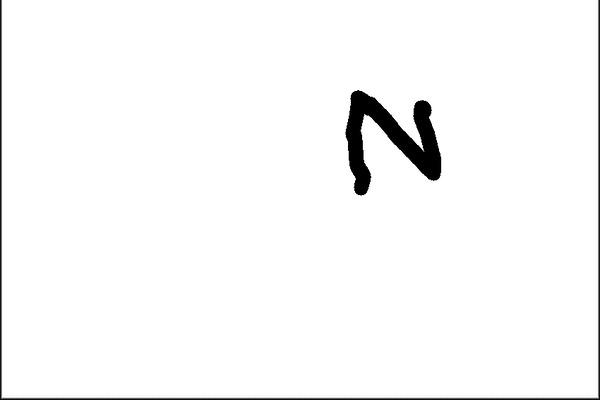N: (342, 83, 451, 200)
